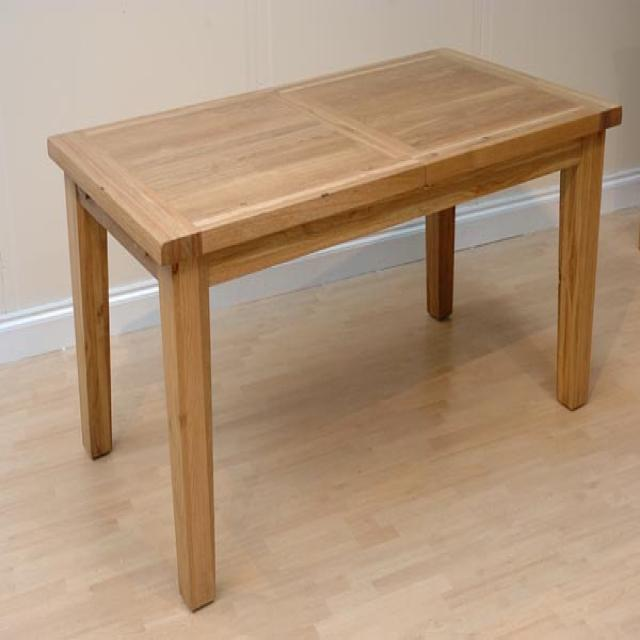table: (46, 44, 622, 611)
